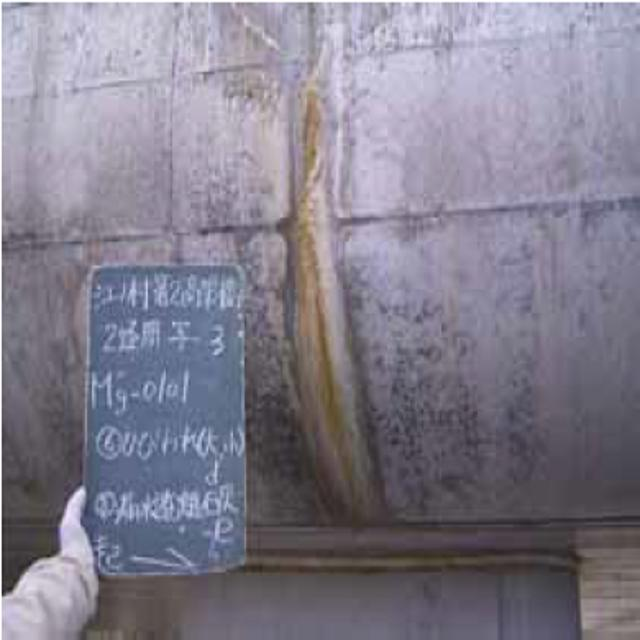freelime: (290, 109, 373, 518)
